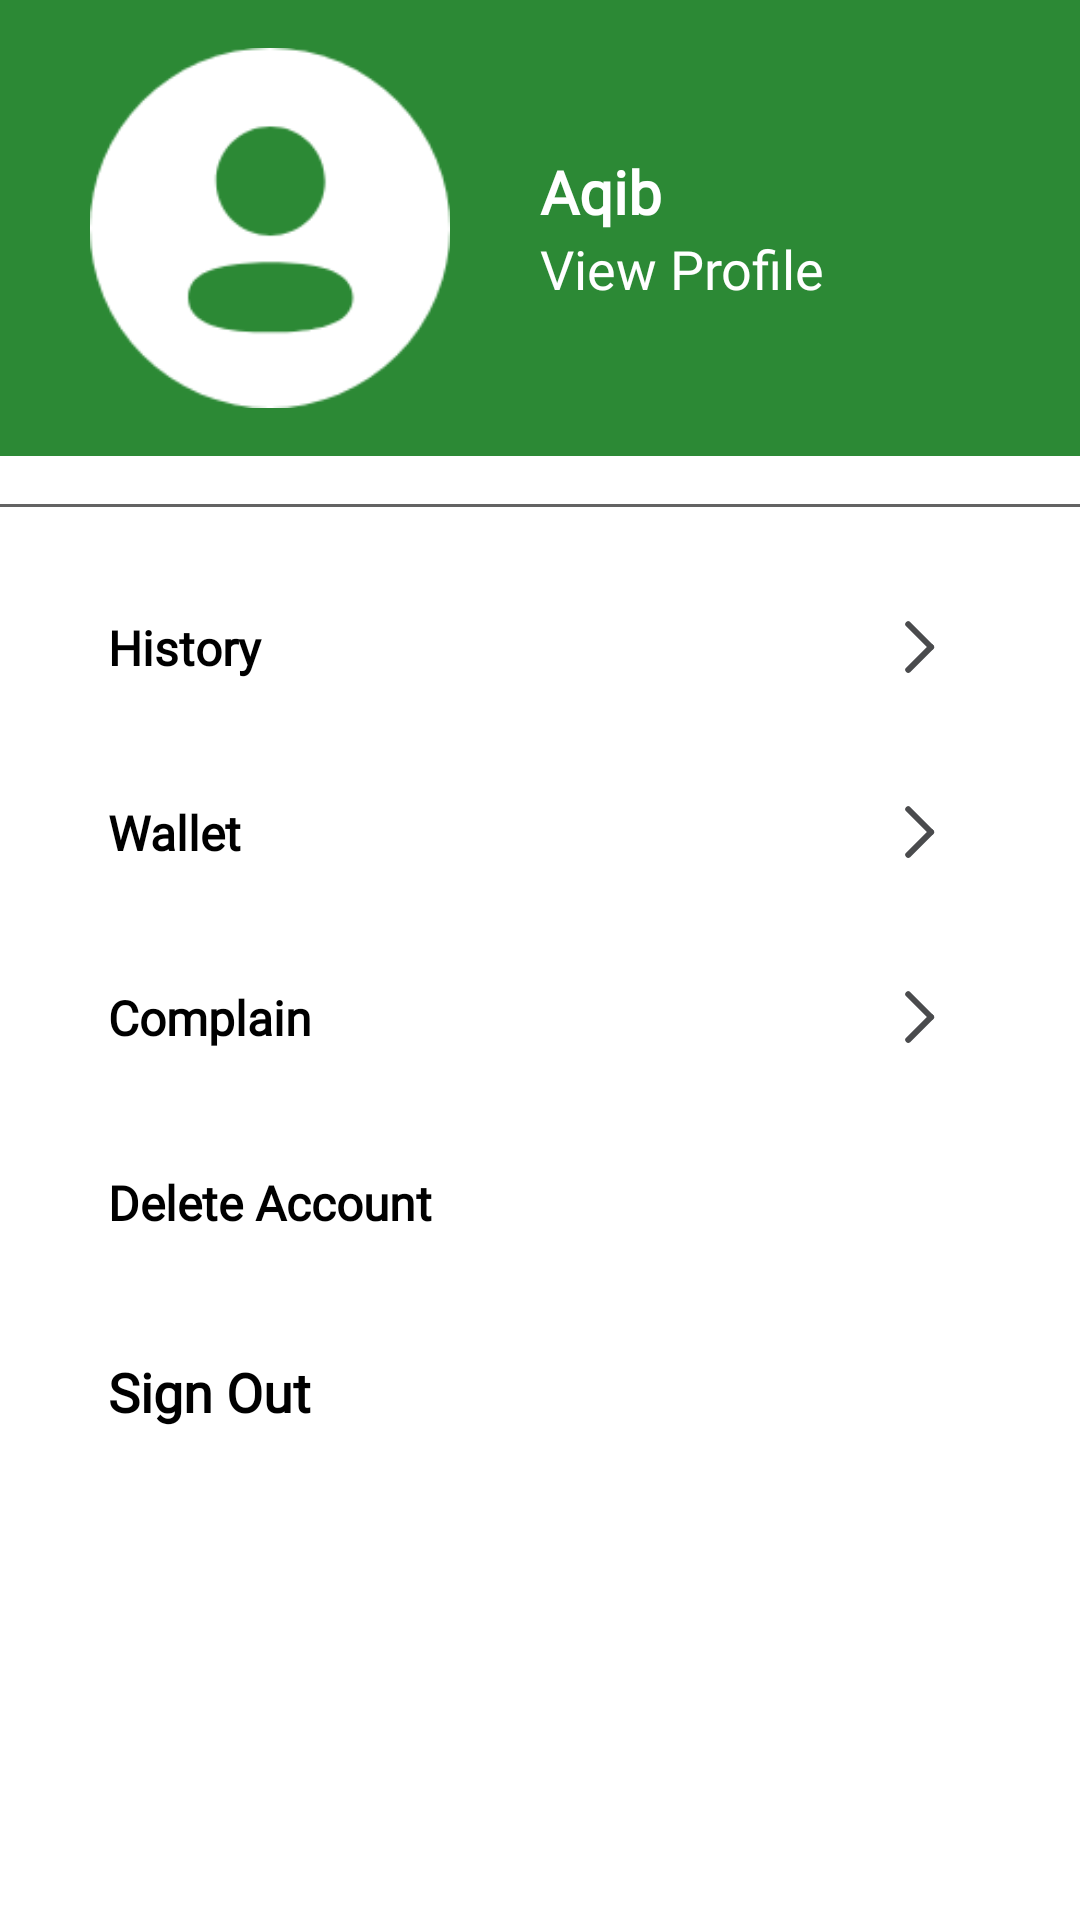

Where icons sit on this 1080 × 1920 app screen, as (x1, y1, x2, y2):
forward arrow: (905, 621, 935, 673), (905, 806, 935, 858), (905, 991, 935, 1043)
